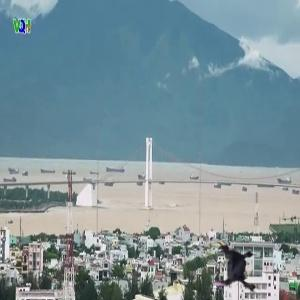drone: (203, 235, 266, 298)
